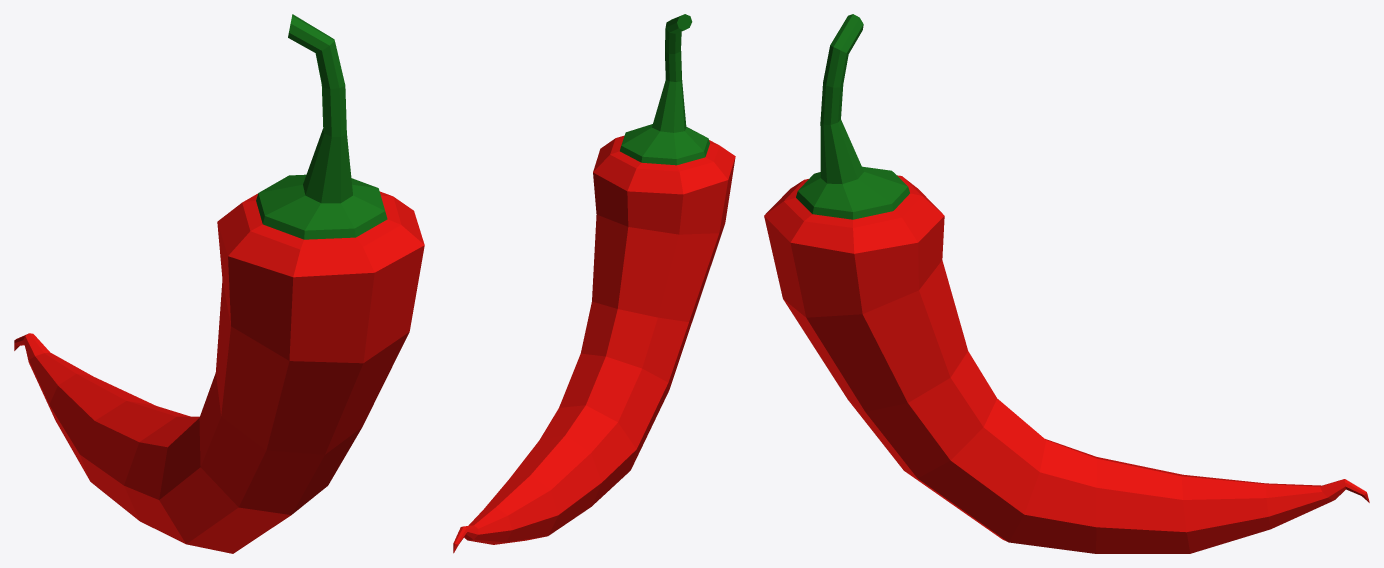
Rendered from Chili_Pepper_01.obj.
3 views of the same model, side by side, from view 1: azimuth 30°, elevation 25°; view 2: azimuth 150°, elevation 25°; view 3: azimuth 270°, elevation 25° (orthographic). The views are drawn at different scales.
Parts seen in each view (by area): view 1: Circle.003_Circle.012; view 2: Circle.003_Circle.012; view 3: Circle.003_Circle.012.
Part boxes in pixels (x1,y1,x2,y2): Circle.003_Circle.012: [14, 14, 424, 553]; Circle.003_Circle.012: [453, 14, 735, 553]; Circle.003_Circle.012: [764, 14, 1369, 553].
Bounding box in the file's own units: 3.51 × 11.27 × 11.76.
